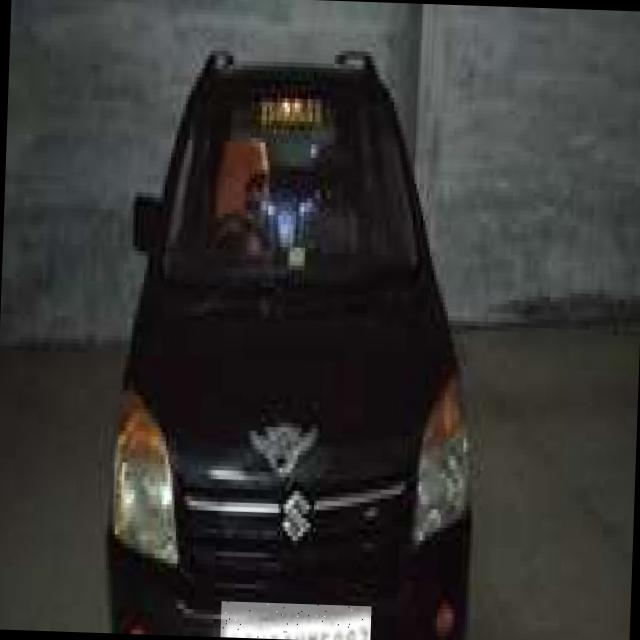Plate: (221, 602, 372, 640)
